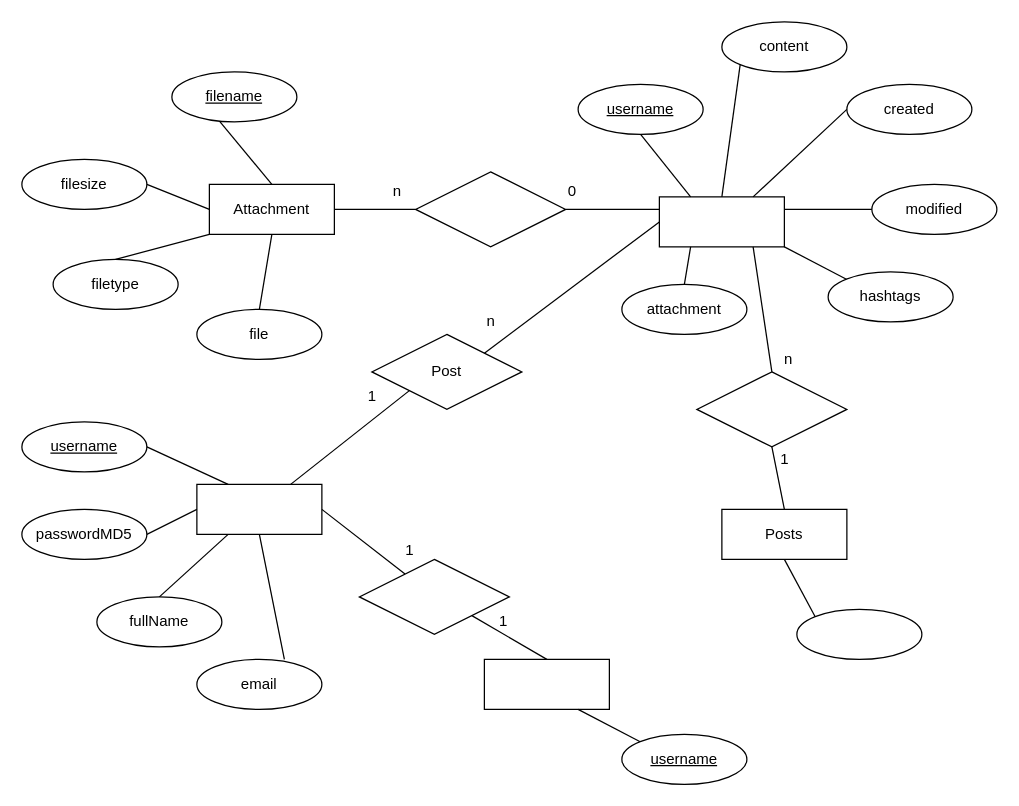
Image size: 1019x806. Some labels were removed from this diagram. The box of each missing label's shape, as (x1, y1, x2, y2) in pixels:
Access: (358, 558, 509, 634)
Contains: (696, 371, 847, 447)
Has: (414, 171, 566, 247)
Message: (658, 196, 784, 247)
msgBoard: (796, 608, 922, 659)
User Auth: (483, 658, 609, 709)
UserData: (196, 483, 322, 534)
